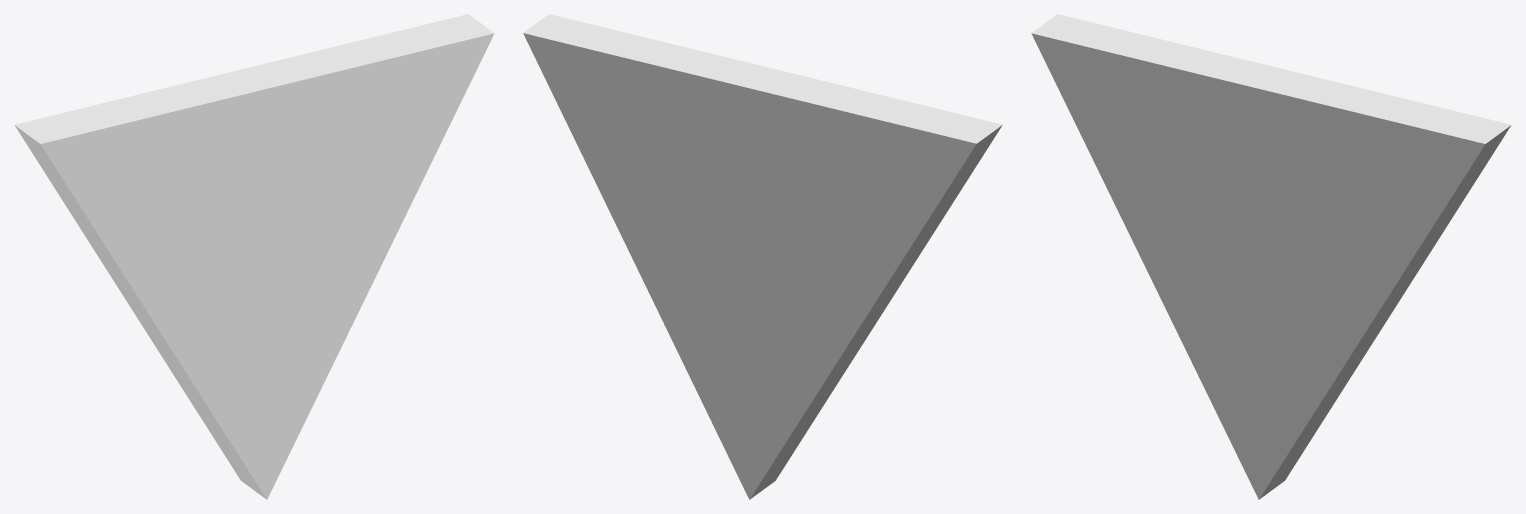
Rendered from triangle.fbx.
3 views of the same model, side by side, from view 1: azimuth 30°, elevation 25°; view 2: azimuth 150°, elevation 25°; view 3: azimuth 330°, elevation 25° (orthographic).
Visible parts, largest first — view 1: node_id33; view 2: node_id33; view 3: node_id33.
Part boxes in pixels (<box>): node_id33: <box>14,14,494,499</box>; node_id33: <box>523,14,1002,499</box>; node_id33: <box>1031,14,1511,499</box>.
Size of the model in its own units: 0.512 by 0.4435 by 0.0522.
Materials: 1 (1 with a texture image).
